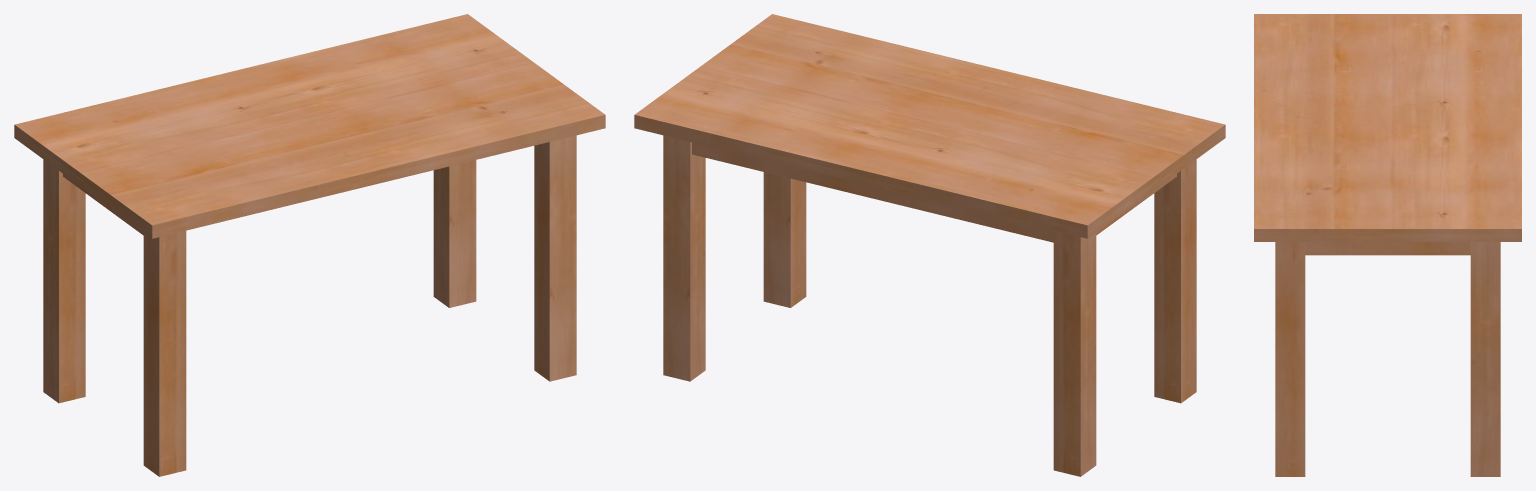
Rendered from Table_05-col.glb.
3 renders of one model, left to right at view 1: azimuth 30°, elevation 25°; view 2: azimuth 150°, elevation 25°; view 3: azimuth 270°, elevation 25°, orthographic. The views are drawn at different scales.
Parts seen in each view (by area): view 1: Table_05-col; view 2: Table_05-col; view 3: Table_05-col.
Part boxes in pixels (box(x1,y1,x2,y2)): Table_05-col: box(14, 14, 605, 476); Table_05-col: box(634, 14, 1225, 476); Table_05-col: box(1254, 14, 1521, 476).
Bounding box in the file's own units: 1.42 × 0.7915 × 0.7489.
Materials: 1 (1 with a texture image).
